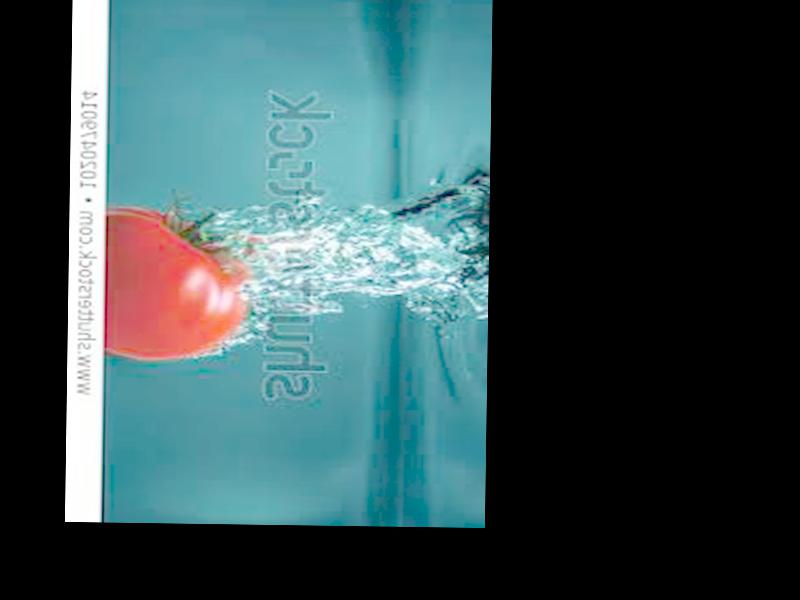Tomato: (103, 205, 249, 360)
